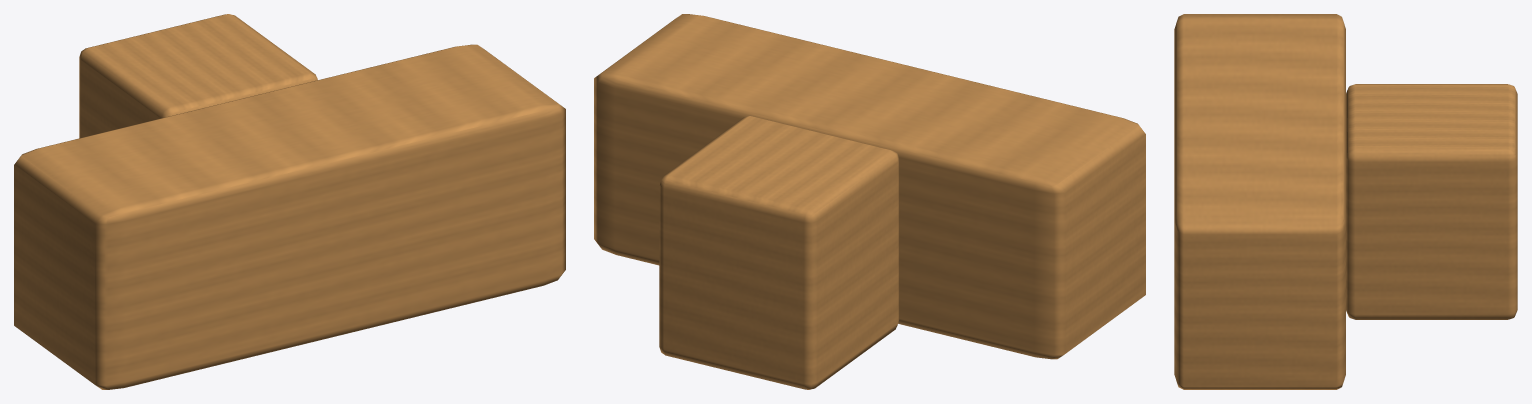
The model's file is wall_junction_T.glb.
The picture shows the model from 3 angles, left to right: view 1: azimuth 30°, elevation 25°; view 2: azimuth 150°, elevation 25°; view 3: azimuth 270°, elevation 25°; orthographic projection. The views are drawn at different scales.
Parts seen in each view (by area): view 1: Junction crossbar, Junction stem; view 2: Junction crossbar, Junction stem; view 3: Junction crossbar, Junction stem.
Boxes of the visible parts, x1,y1,x2,y2 form: Junction crossbar: (14,44,565,389); Junction stem: (79,14,317,138); Junction crossbar: (594,14,1145,359); Junction stem: (659,116,899,389); Junction crossbar: (1174,14,1345,389); Junction stem: (1346,84,1517,319).
Size of the model in its own units: 3 by 1.1 by 2.
Materials: 1 (1 with a texture image).
